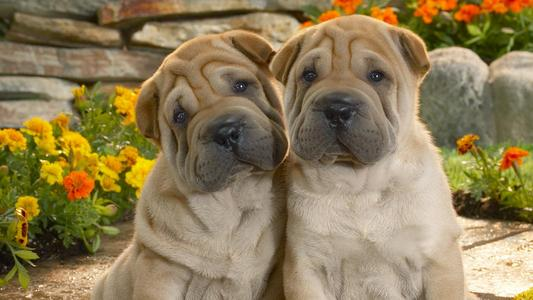dog: (284, 19, 447, 186), (127, 43, 282, 207)
